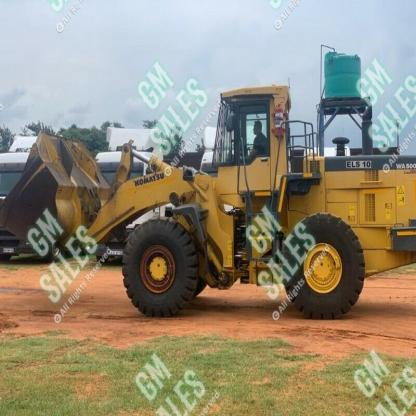bull_dozer/loader/grader: (4, 78, 416, 327)
